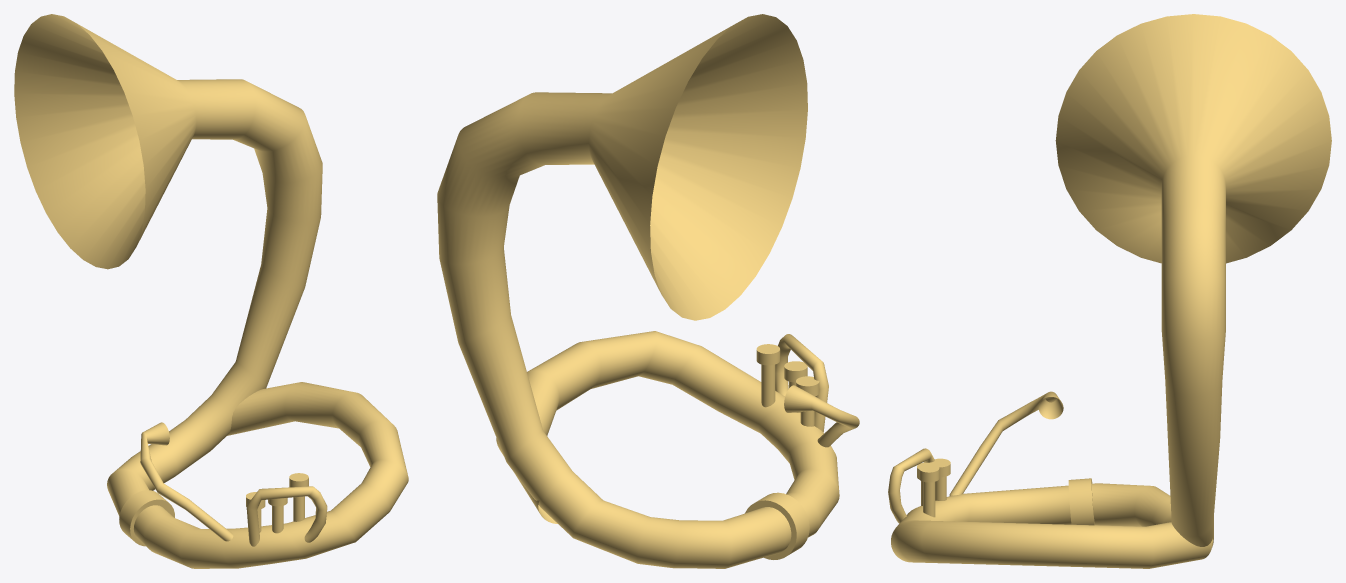
Rendered from larrys_sousaphone_2010-present_updated.glb.
3 views of the same model, side by side, from view 1: azimuth 30°, elevation 25°; view 2: azimuth 150°, elevation 25°; view 3: azimuth 270°, elevation 25° (orthographic). The views are drawn at different scales.
Parts seen in each view (by area): view 1: Sousaphone_4, Cylinder_0, Vaule 3_3; view 2: Sousaphone_4, Cylinder_0, Vaule 3_3, Vaule 1_1; view 3: Sousaphone_4, Cylinder_0, Vaule 3_3.
Boxes of the visible parts, x1,y1,x2,y2 form: Sousaphone_4: [14, 14, 408, 568]; Cylinder_0: [119, 490, 174, 546]; Vaule 3_3: [289, 473, 308, 521]; Sousaphone_4: [437, 14, 859, 568]; Cylinder_0: [745, 492, 809, 559]; Vaule 3_3: [756, 344, 780, 407]; Vaule 1_1: [796, 376, 819, 426]; Sousaphone_4: [888, 14, 1331, 568]; Cylinder_0: [1068, 478, 1094, 525]; Vaule 3_3: [918, 464, 939, 517].
Bounding box in the file's own units: 5.24 × 9.52 × 7.52.
